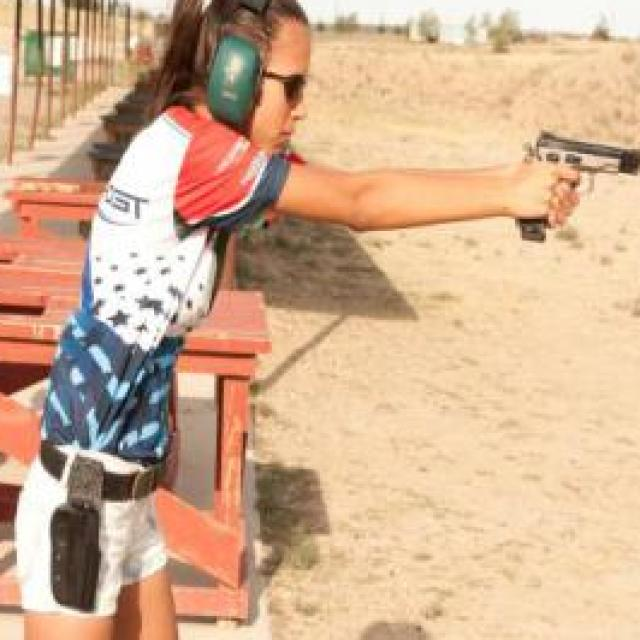pistol: (508, 123, 640, 248)
